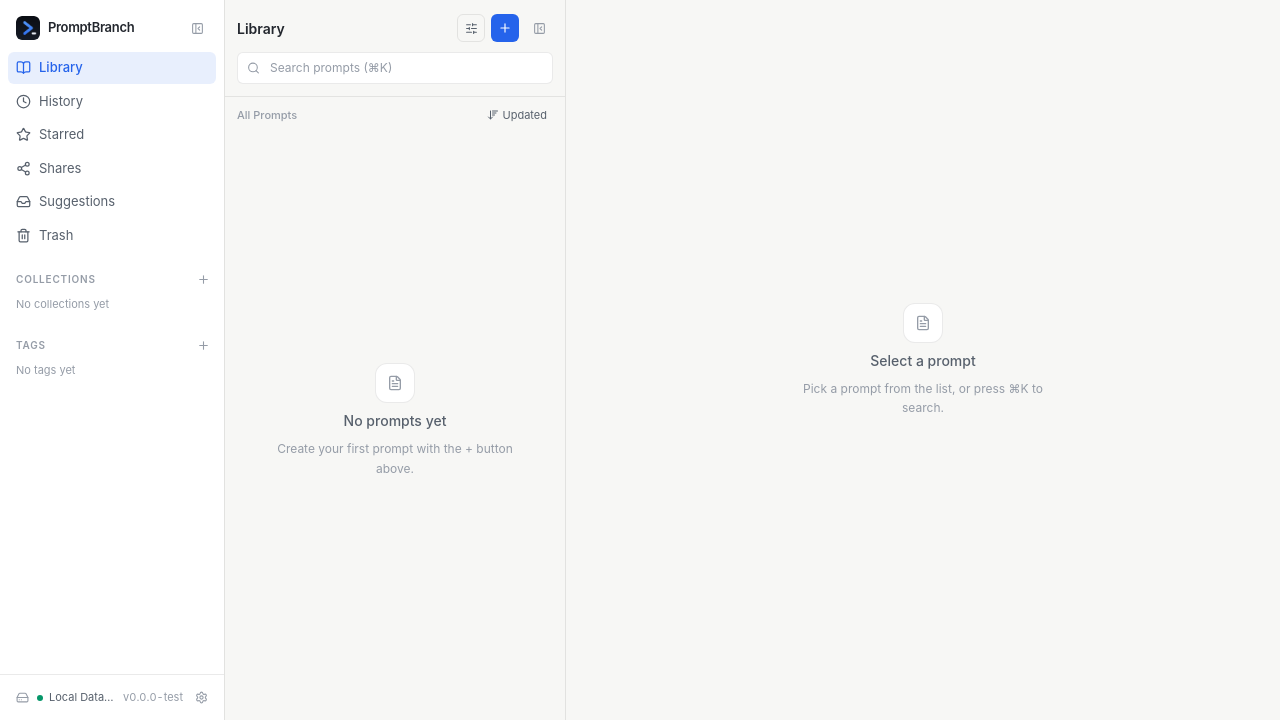
it: App collapsible navigation › restores the prompt-list content immediately after imperative expansion
The width and height of the screenshot is (1280, 720).
Click the button named "Collapse prompt list" at (539, 28), box x1=525 y1=14 x2=553 y2=42
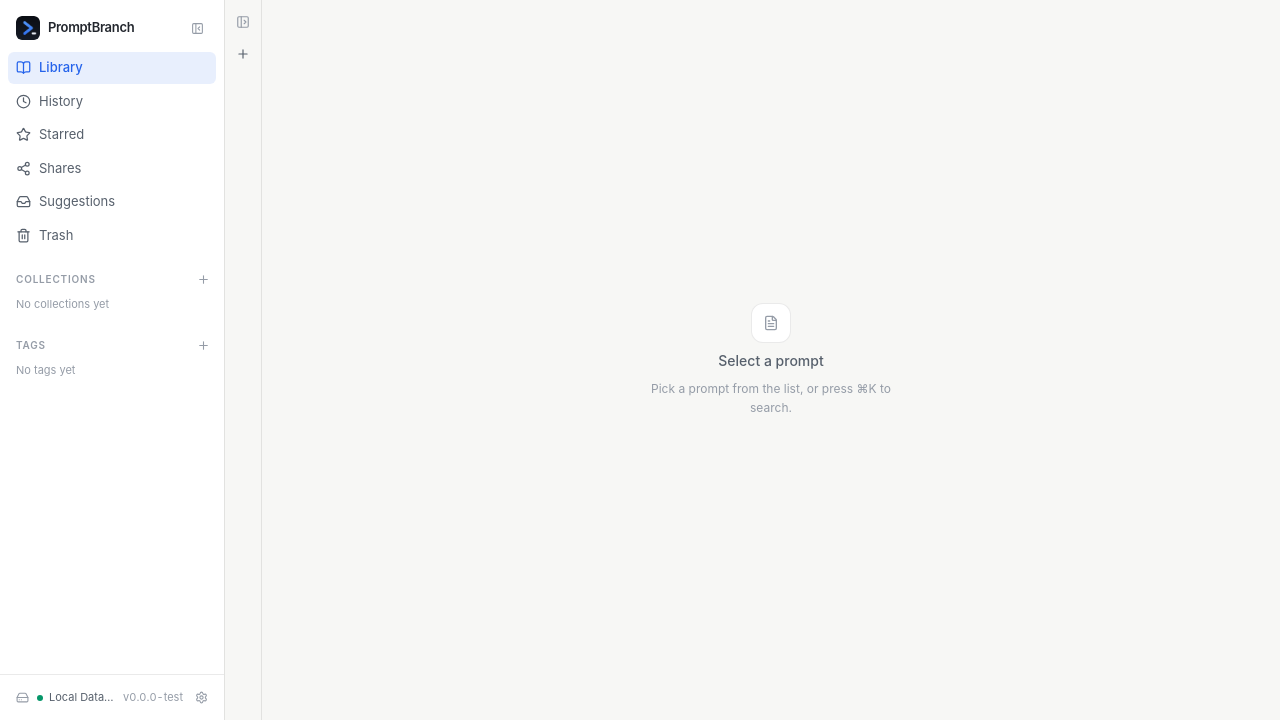
Click the button named "Expand prompt list" at (243, 22), box x1=229 y1=8 x2=257 y2=36
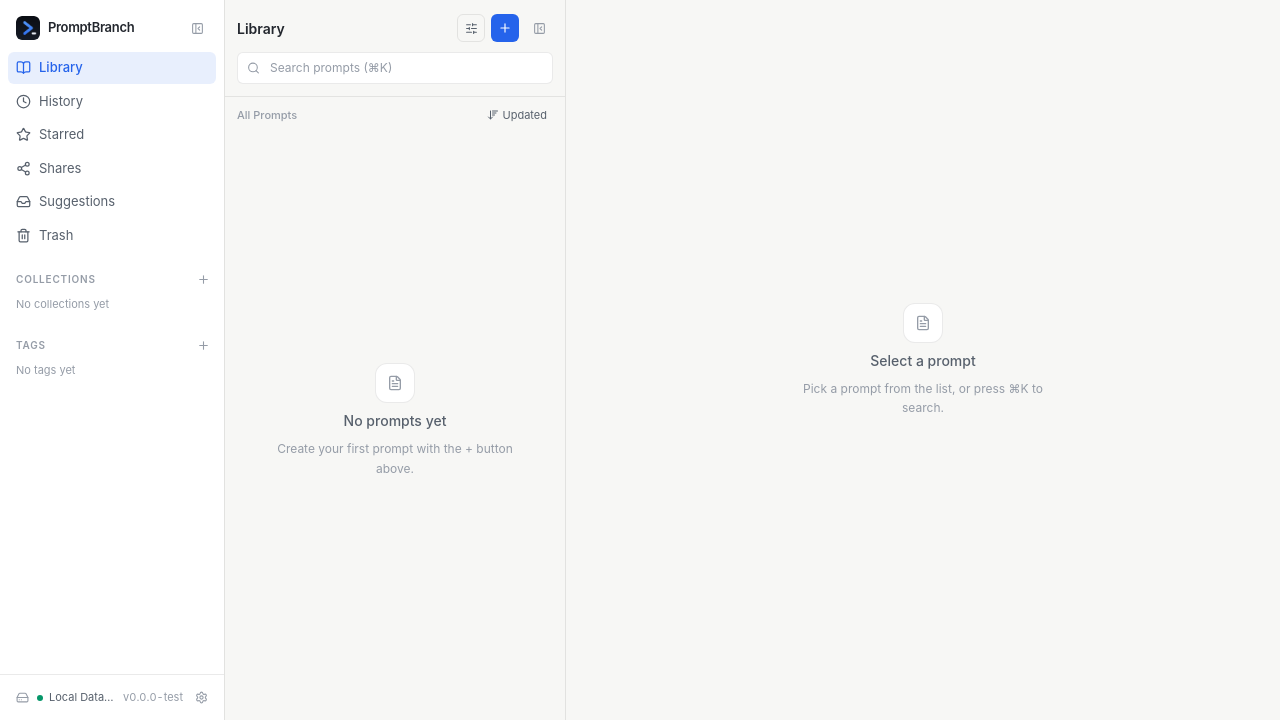
Now the button named "Collapse prompt list" is shown, box x1=525 y1=14 x2=553 y2=42
Now the field with placeholder "Search prompts (⌘K)" is shown, box x1=237 y1=52 x2=553 y2=84
